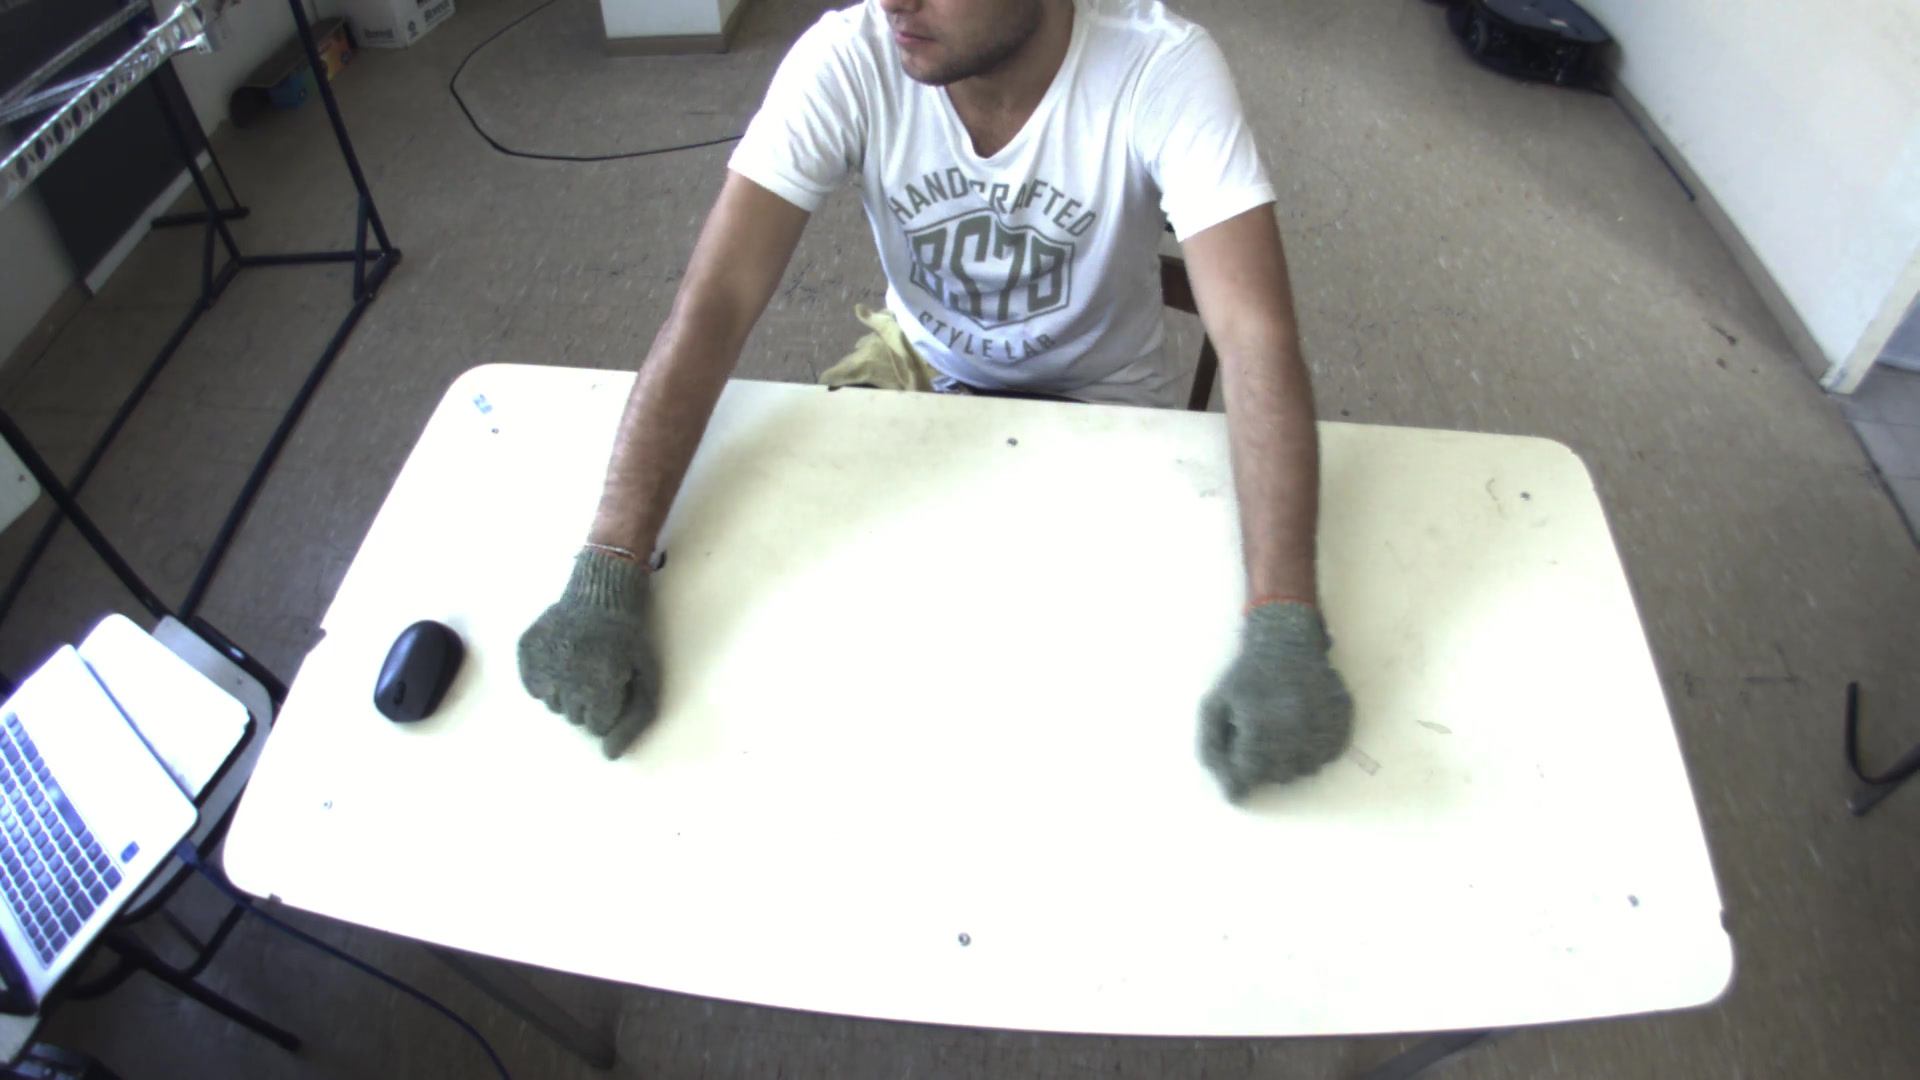hand: (1189, 589, 1367, 800), (508, 535, 669, 752)
